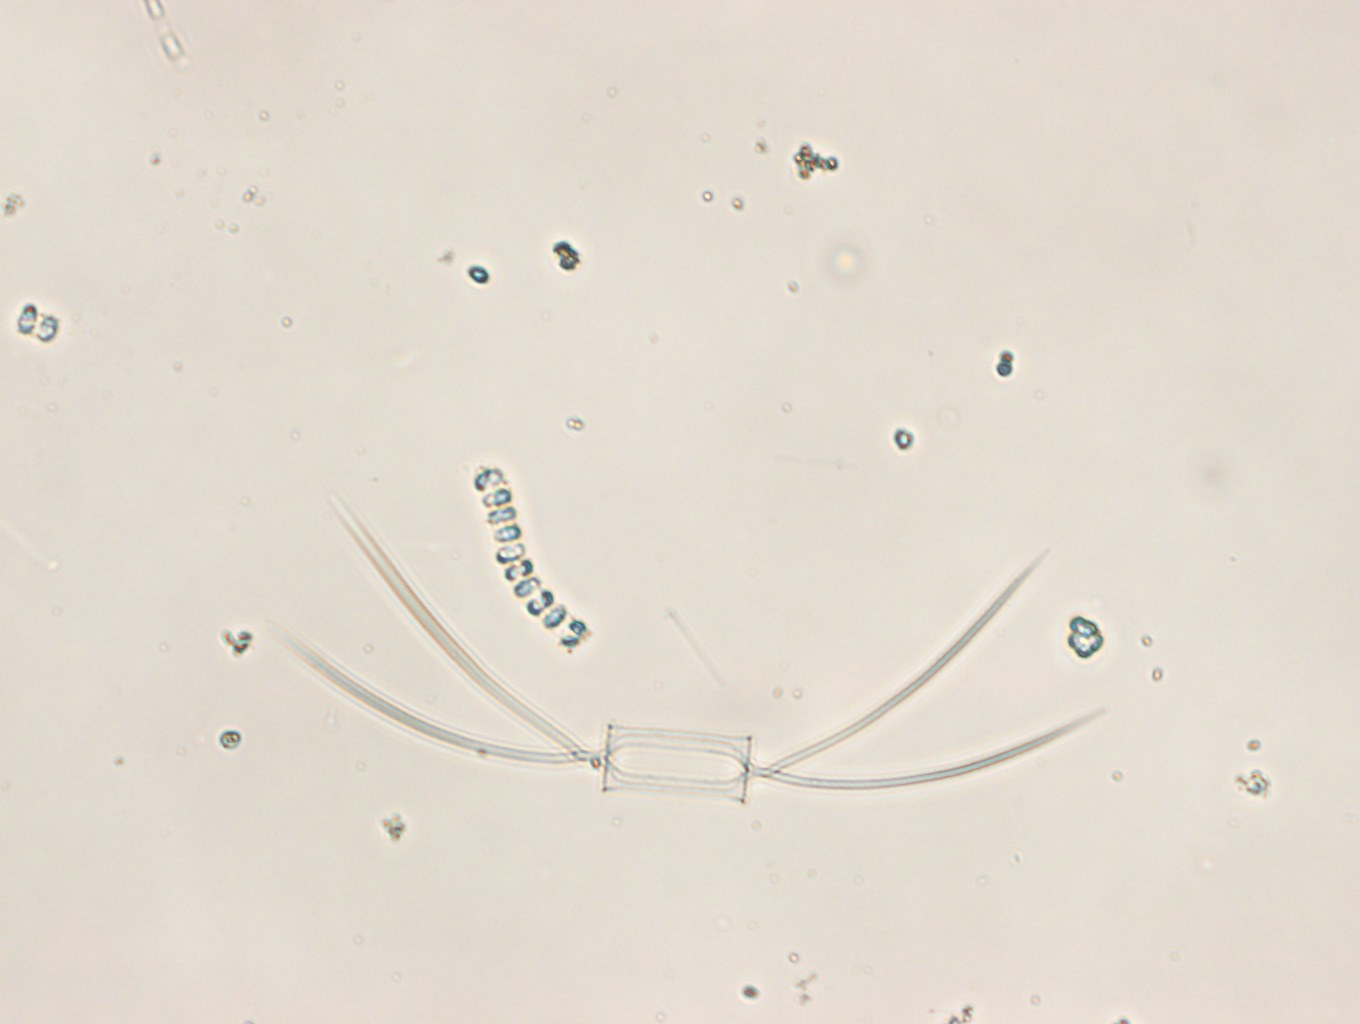chaetoceros: (290, 499, 1107, 801)
